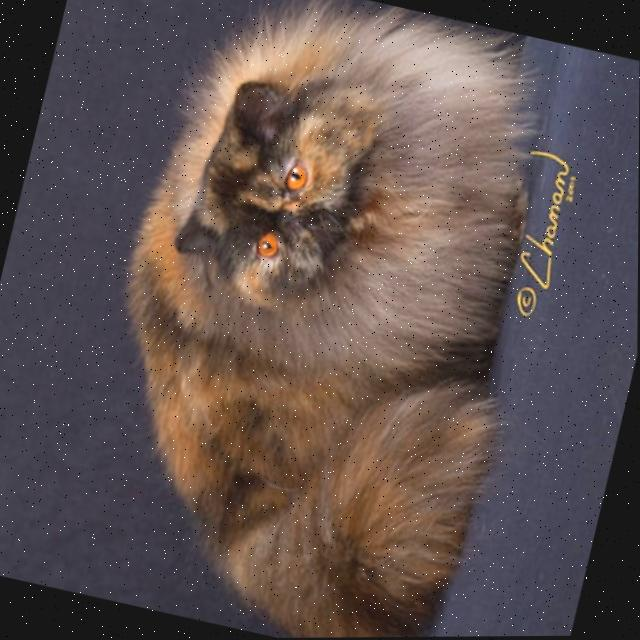Persian: (47, 0, 591, 640)
